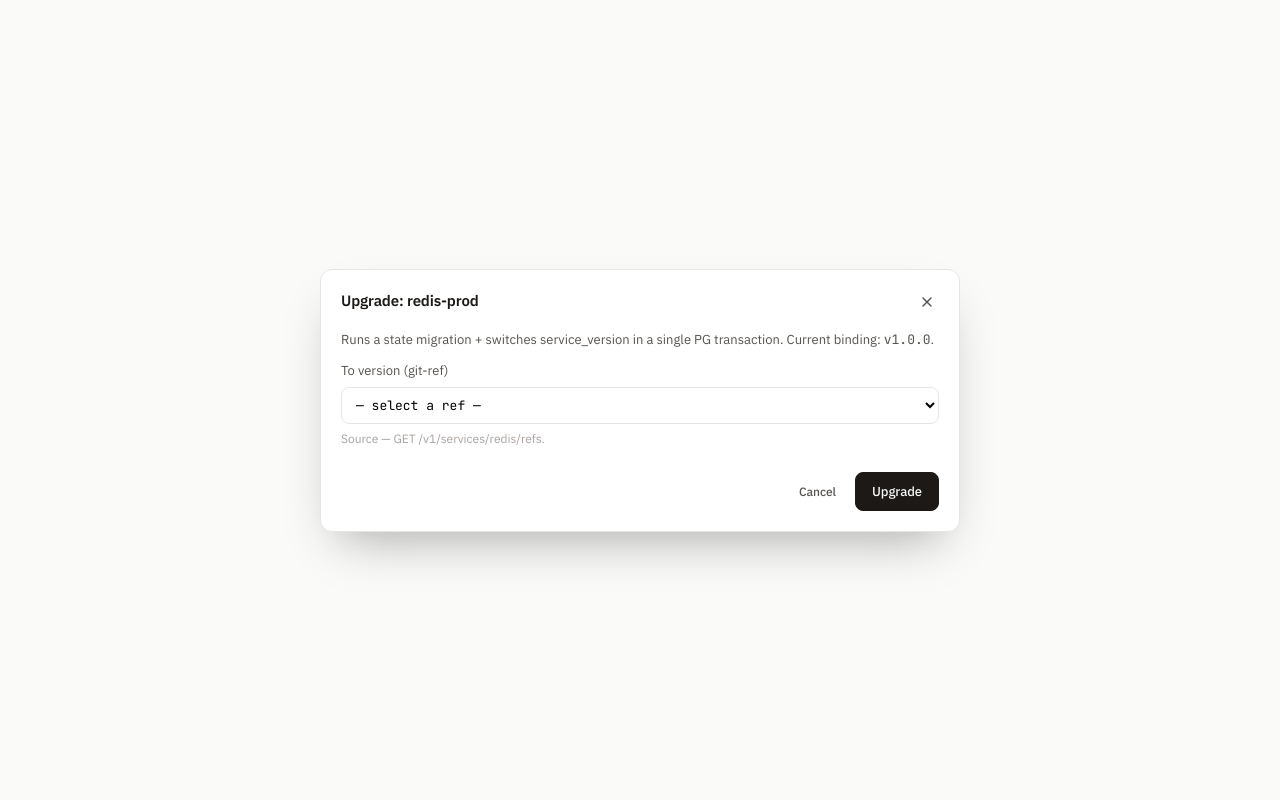
Test: UpgradeModal — upgrade-paths preview (NIM-34) › found target → found badge + migration list
Step 1. Select "v2.0.0" in the dropdown → {"x": 640, "y": 405}, box left=341, top=386, right=939, bottom=424
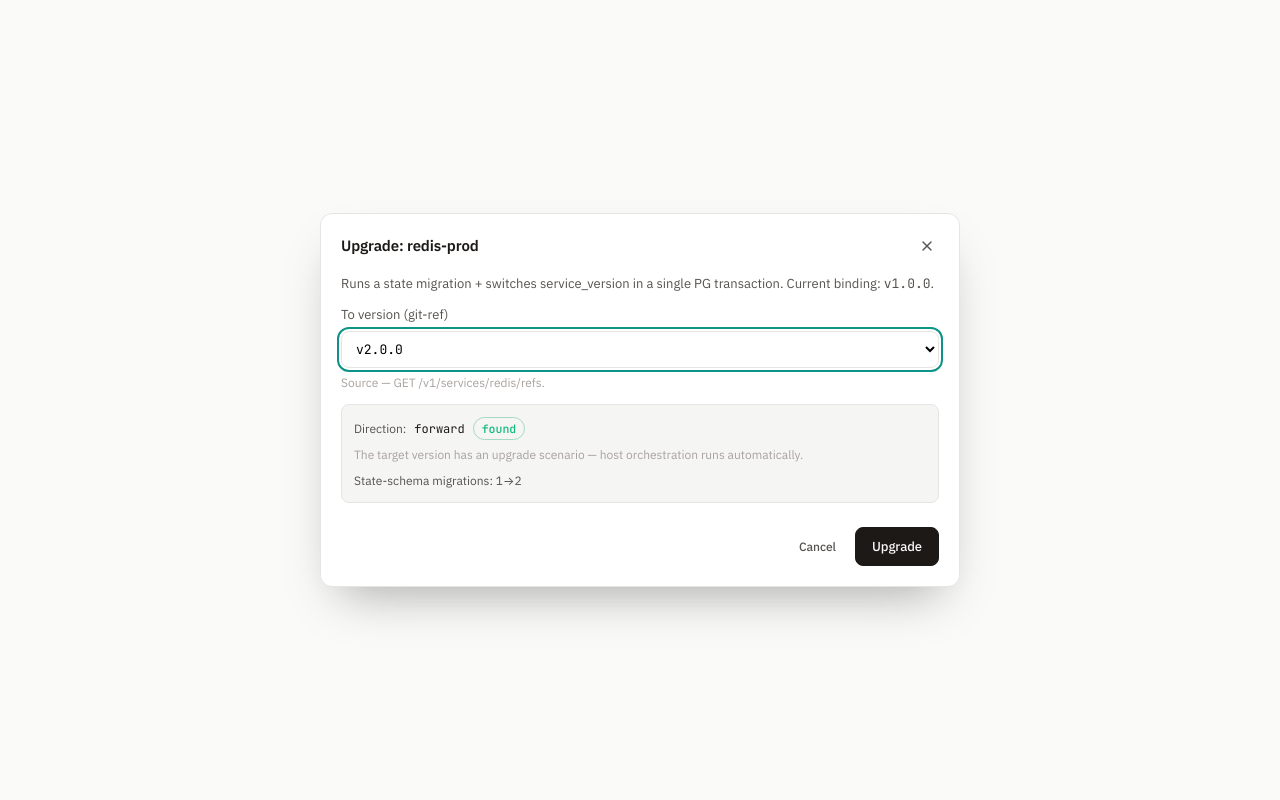
Now the text with test id "upgrade-mode-badge" reads "found", box left=482, top=421, right=516, bottom=436
Now the text with test id "upgrade-direction" reads "forward", box left=414, top=420, right=465, bottom=436
Now the text with test id "upgrade-migrations" shows "1→2", box left=354, top=473, right=522, bottom=488
